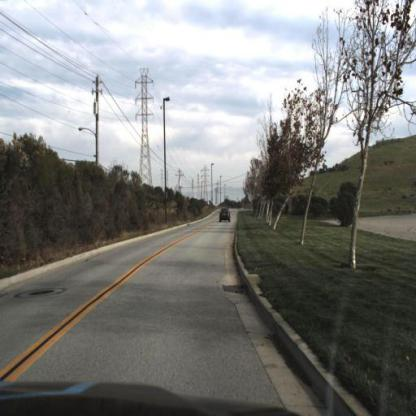car: (218, 207, 235, 226)
